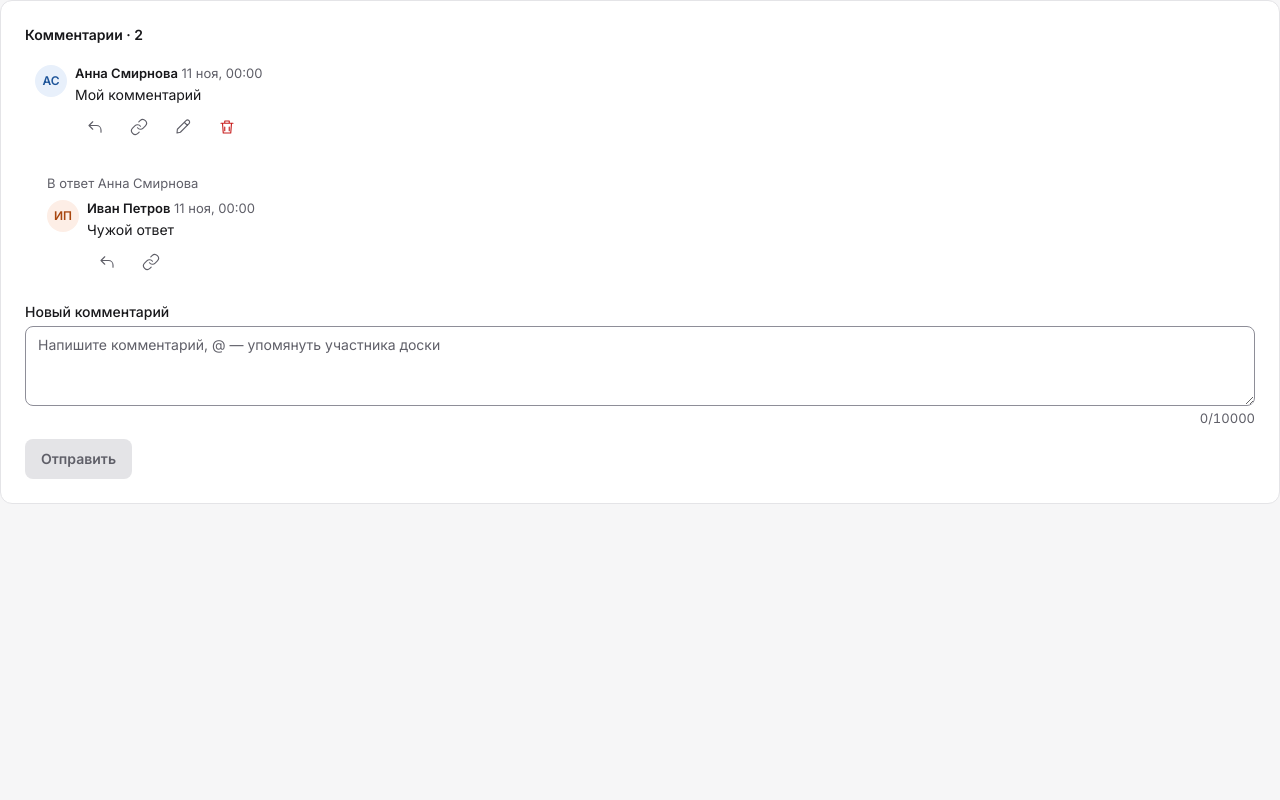
Test: действия с комментариями › подтверждает удаление, отмена оставляет комментарий
What coordinates should you click on to do the following:
click the button named "Удалить комментарий"
I would click on:
 (227, 127)
Its box is [207,107,247,147].
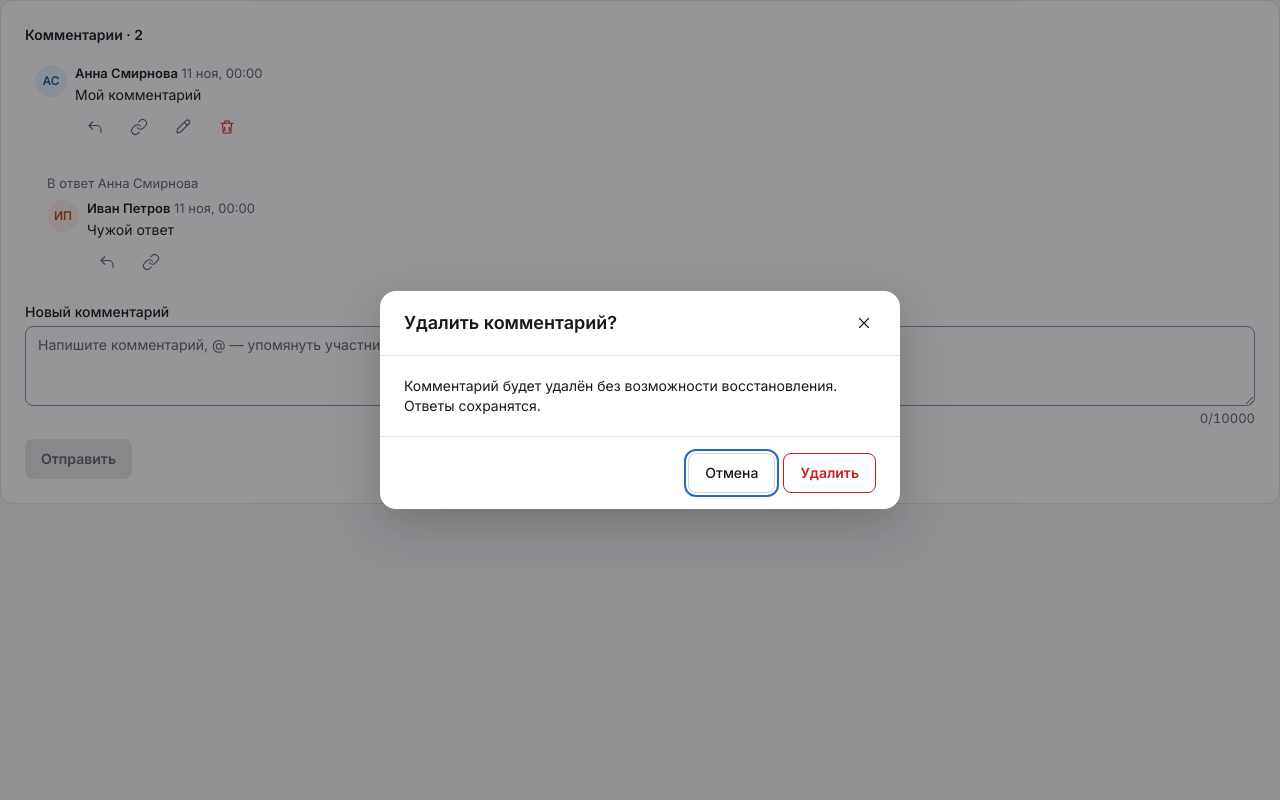
What coordinates should you click on to do the following:
click the button "Отмена"
I would click on:
 (732, 473)
Its box is [688,453,776,493].
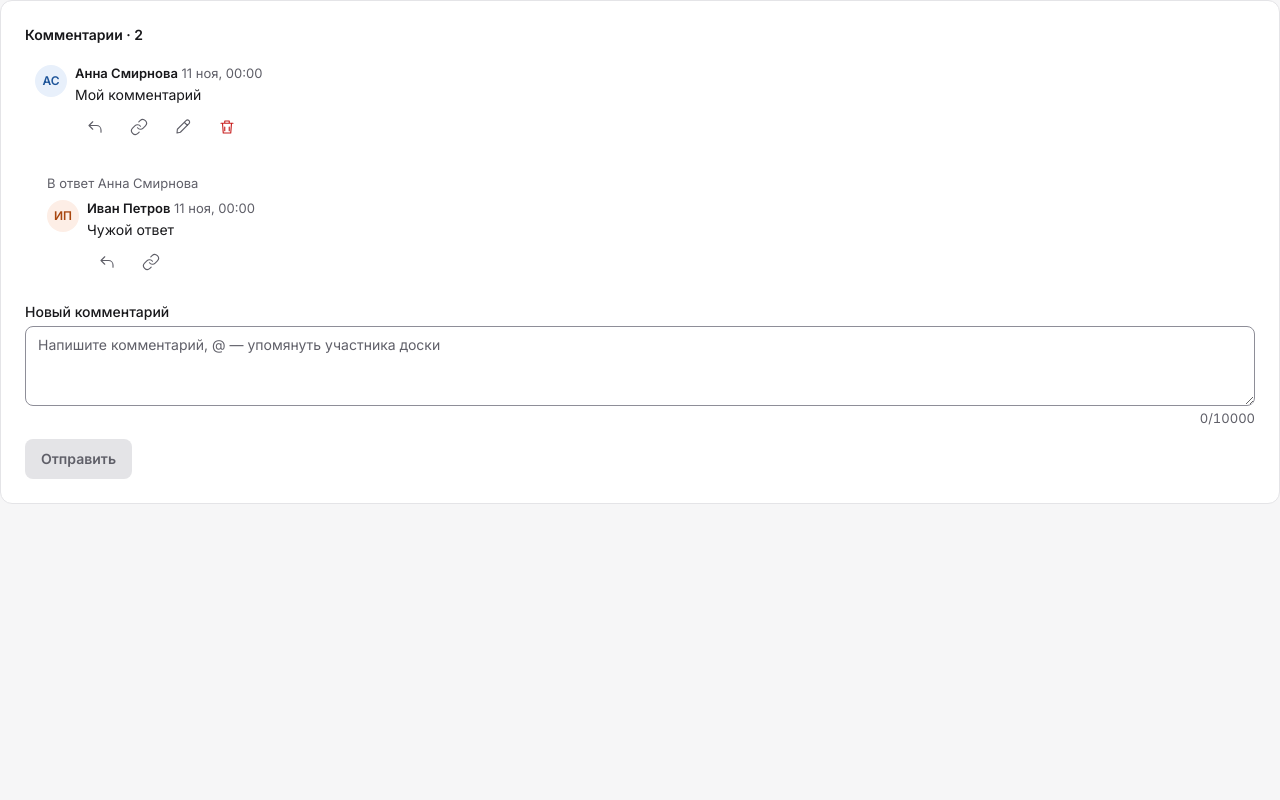
Expected: the text "Мой комментарий" is shown, [75,86,201,103]
Now the dialog is gone
